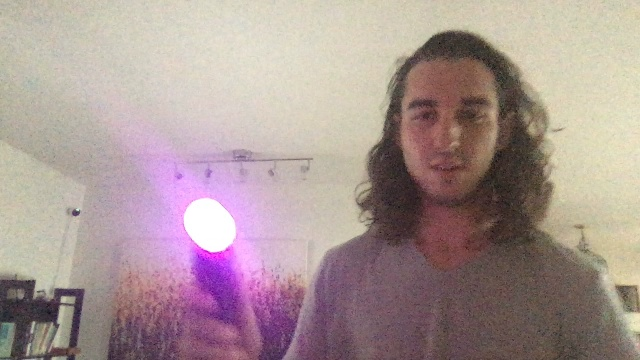wand: (184, 197, 236, 252)
